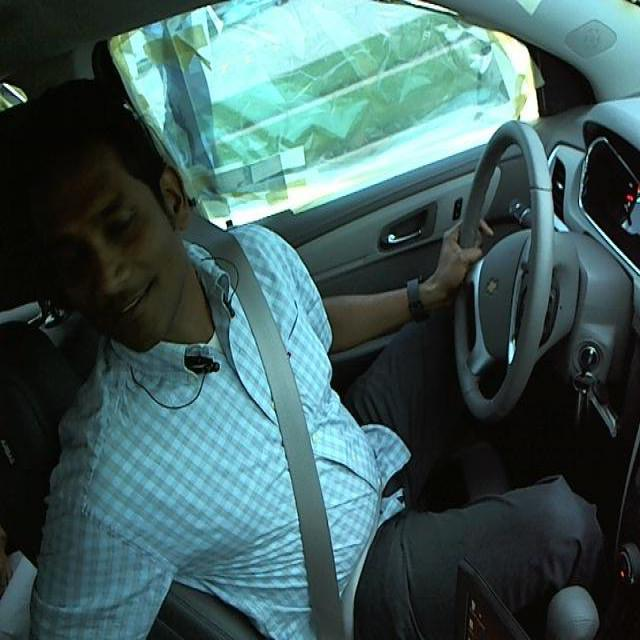seatbelt: (224, 267, 366, 637)
